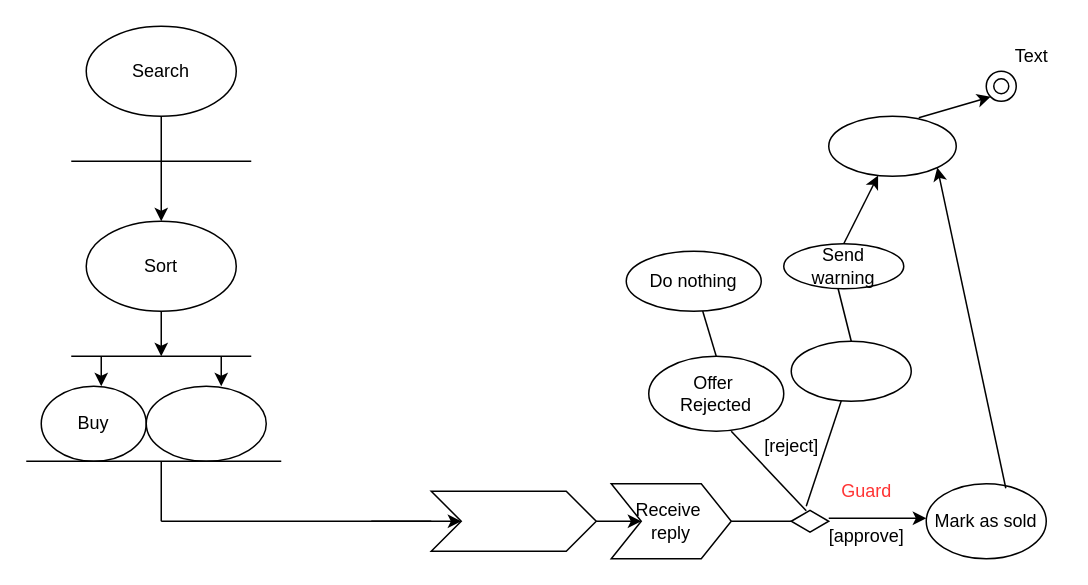
This 1088x585 diagram has some shape labels left out. The shapes that lost their labels are listed below. From the top down, each one's centre as x and y in pixels, then its label:
At point 891,145: "Delete Post".
At point 850,370: "Flag Illegal post".
At point 205,423: "Sell".
At point 513,520: "Send Email".
